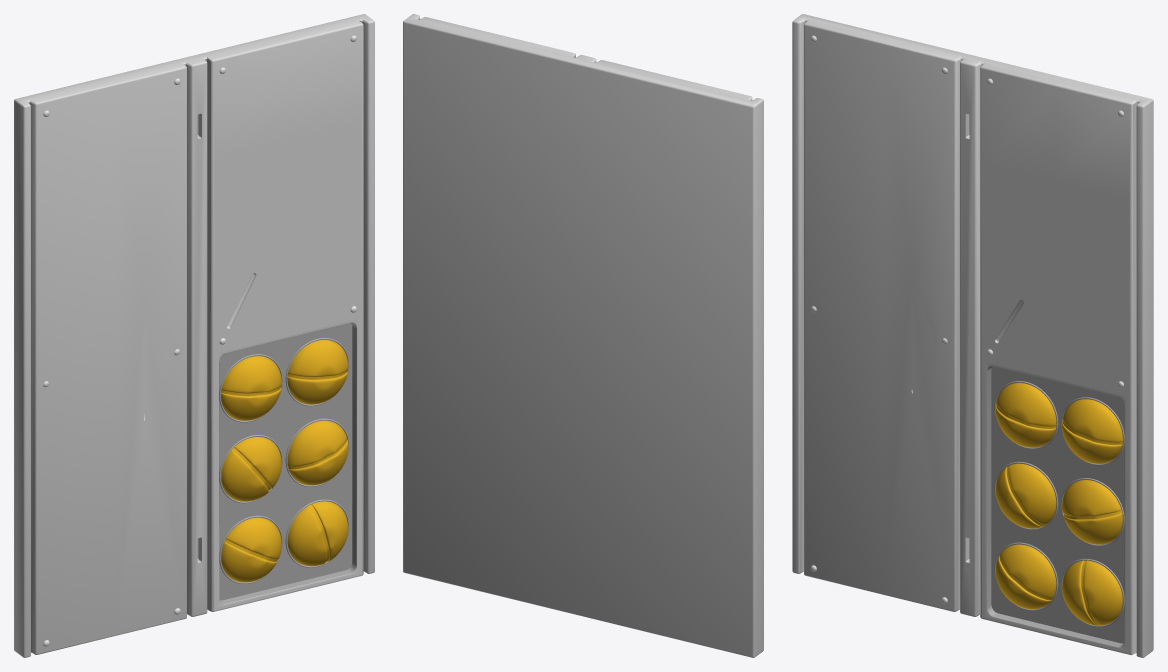
3 views of the same model, side by side, from view 1: azimuth 30°, elevation 25°; view 2: azimuth 150°, elevation 25°; view 3: azimuth 330°, elevation 25° (orthographic).
Visible parts, largest first — view 1: high.002, ball.001, high.003; view 2: high.002; view 3: high.002, ball.001, high.003.
Boxes of the visible parts, box(x1,y1,x2,y2) form: high.002: box(14, 14, 374, 657); ball.001: box(221, 340, 348, 582); high.003: box(219, 338, 349, 583); high.002: box(403, 14, 763, 657); high.002: box(792, 14, 1153, 657); ball.001: box(995, 383, 1122, 625); high.003: box(994, 381, 1124, 626).
Size of the model in its own units: 199 by 299 by 15.4.
